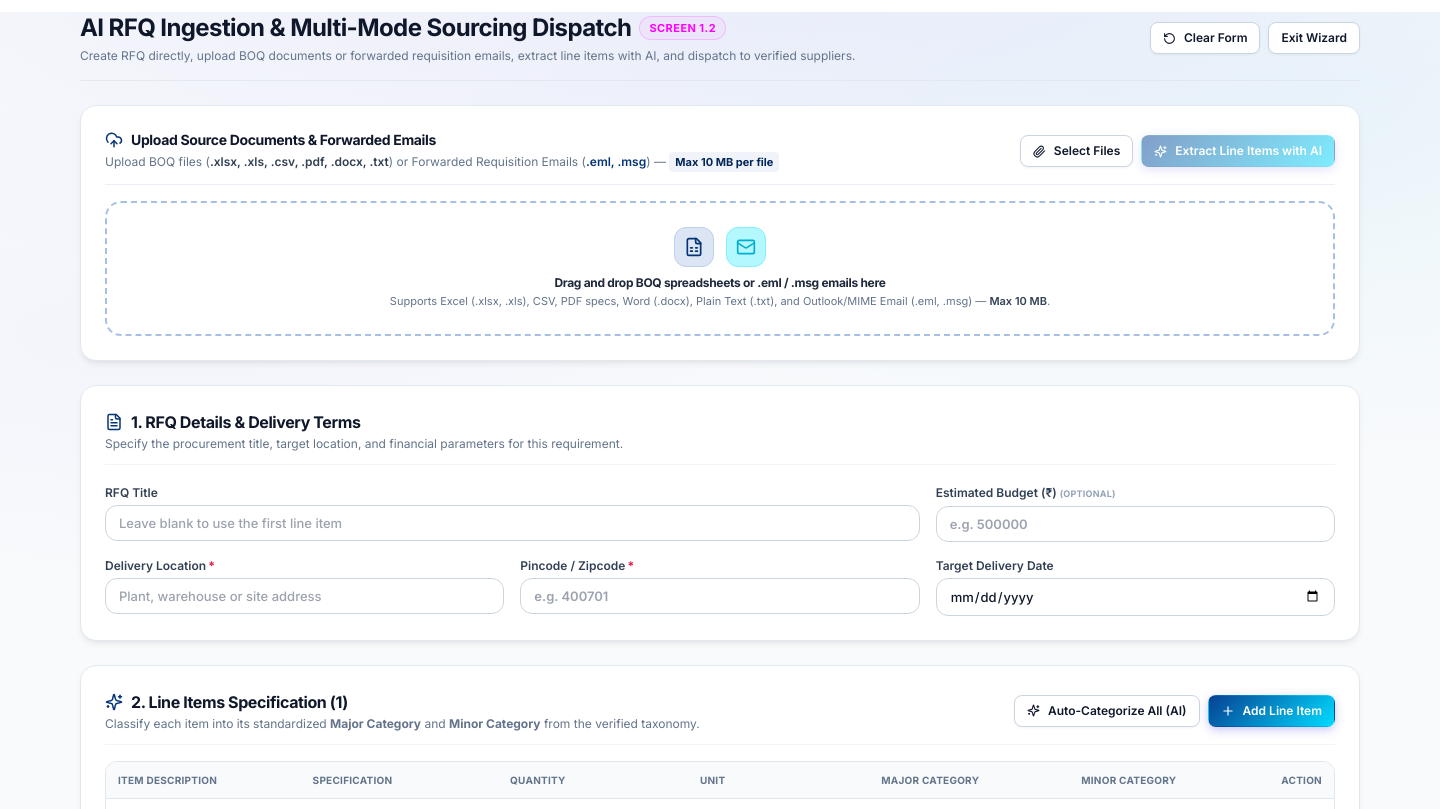
Test: IngestionWizard (Direct Manual Form with Top Document Upload) › resets all form fields and uploaded documents when clicking Clear Form
# Fill some fields
Type "Custom Title" into the field with placeholder "Leave blank to use the first line item" at (512, 522), box [105,504,920,540]
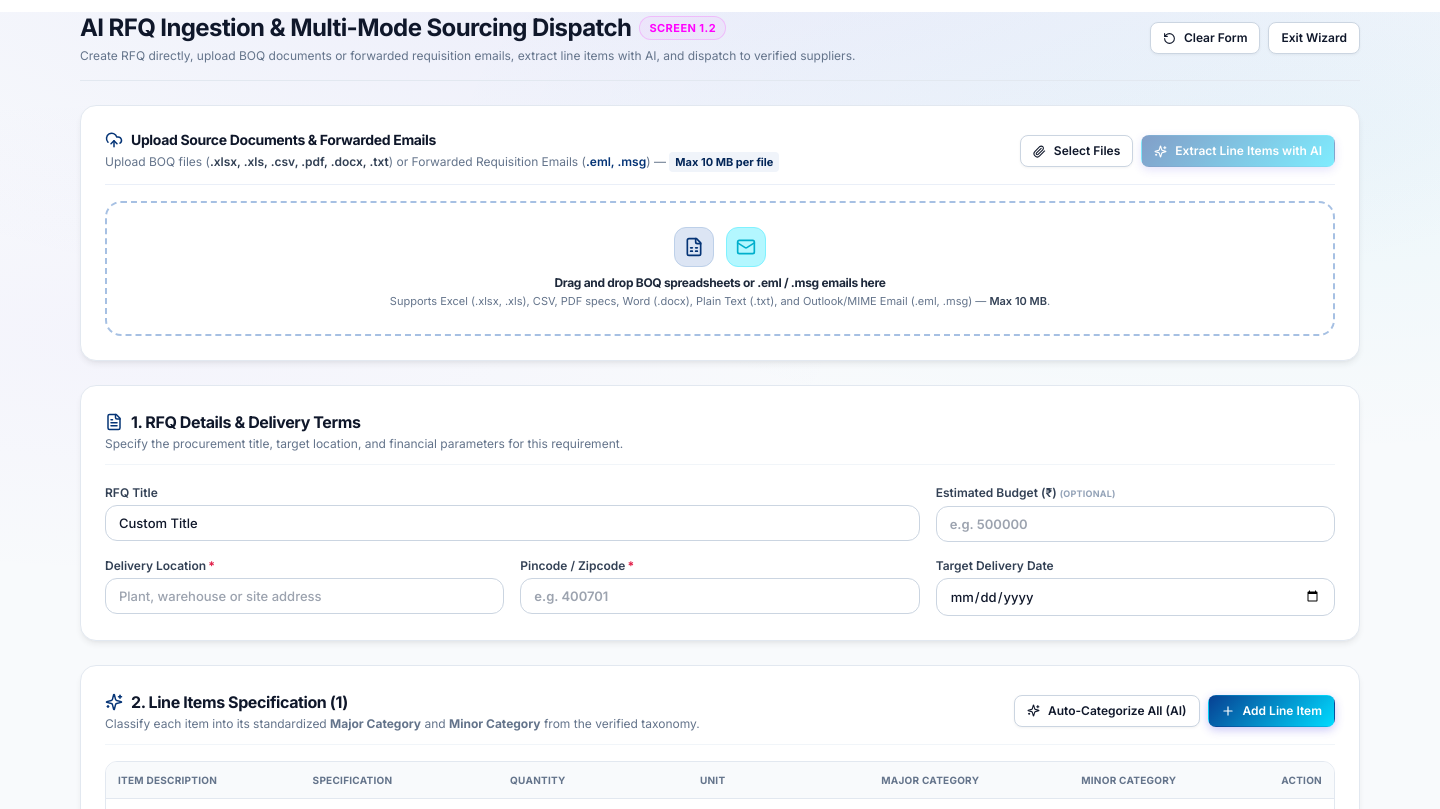
Type "Location A" into the field with placeholder "Plant, warehouse or site address" at (305, 596), box [105,578,504,614]
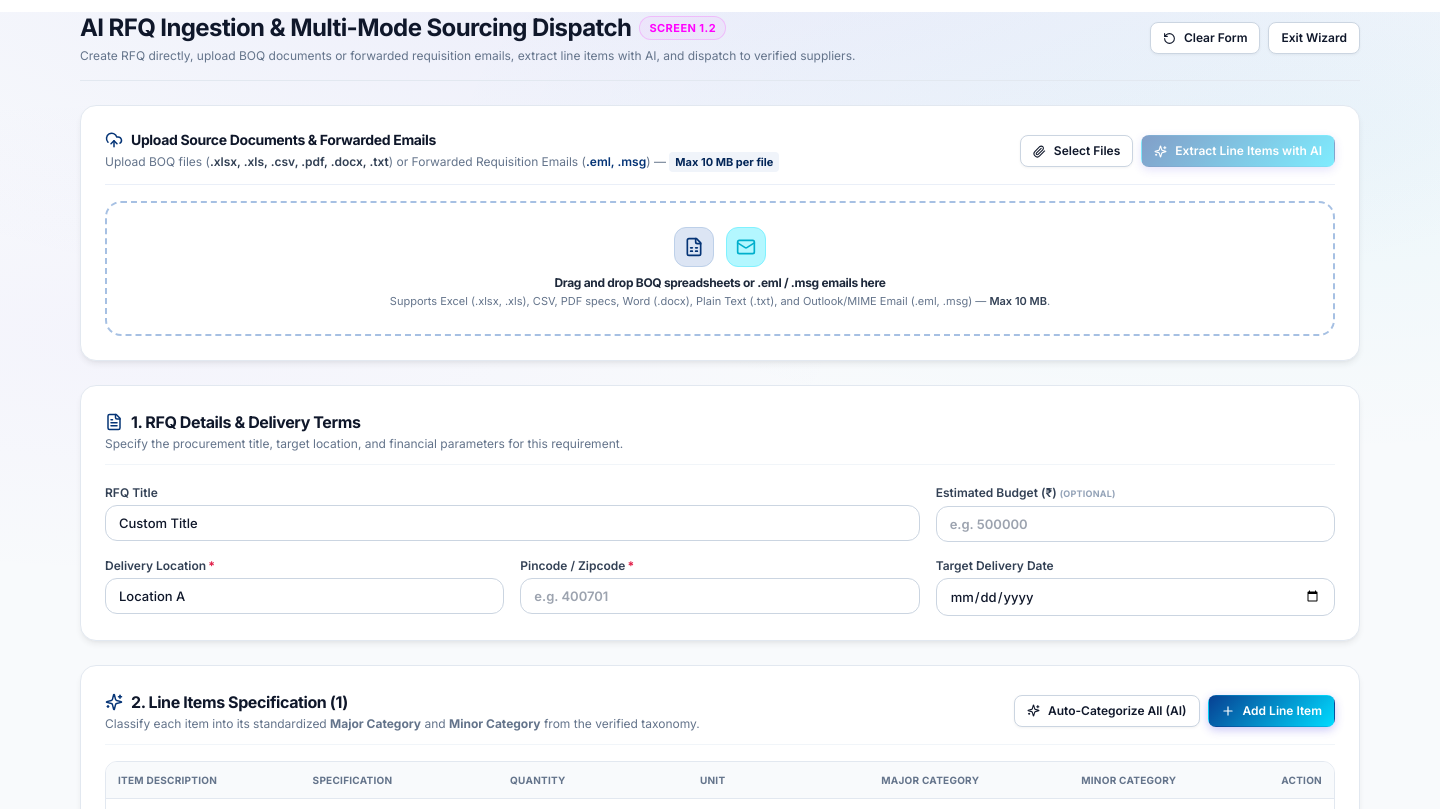
# Click Clear Form
Click the button "Clear Form" at (1205, 38), box [1150,22,1260,54]
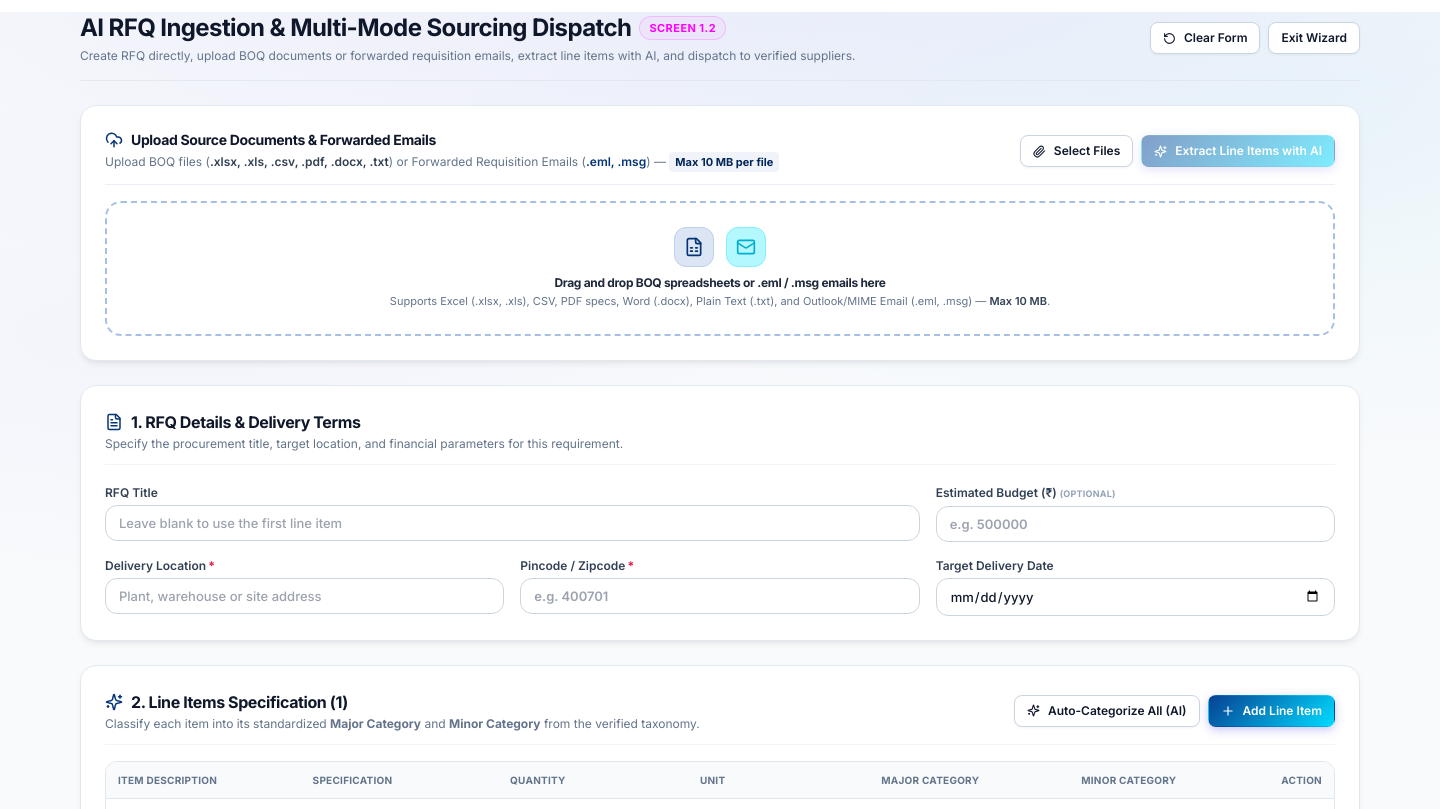
expect the field with placeholder "Leave blank to use the first line item" is empty: met, box [105,504,920,540]
expect the field with placeholder "Plant, warehouse or site address" is empty: met, box [105,578,504,614]
